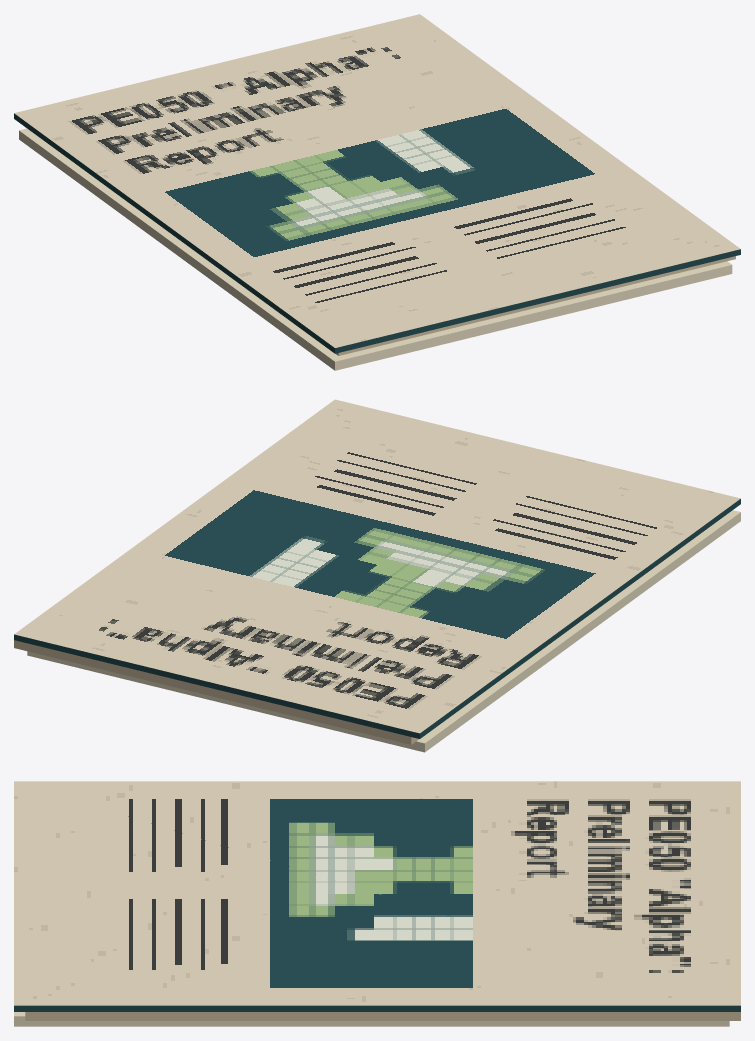
Rendered from recipe_alpha.glb.
3 views of the same model, one above another, from view 1: azimuth 30°, elevation 25°; view 2: azimuth 150°, elevation 25°; view 3: azimuth 270°, elevation 25° (orthographic). The views are drawn at different scales.
Visible parts, largest first — view 1: block_report cover, block_offset bottom sheets, block_middle sheets; view 2: block_report cover, block_offset bottom sheets, block_middle sheets; view 3: block_report cover, block_middle sheets, block_offset bottom sheets.
Boxes of the visible parts, x1,y1,x2,y2 form: block_report cover: (14,14,740,353); block_offset bottom sheets: (19,128,732,370); block_middle sheets: (336,256,735,355); block_report cover: (14,399,740,738); block_offset bottom sheets: (27,510,740,752); block_middle sheets: (14,640,418,744); block_report cover: (14,781,740,1011); block_middle sheets: (25,1012,740,1020); block_offset bottom sheets: (14,1012,729,1026).
Bounding box in the file's own units: 0.1898 × 0.0101 × 0.26.
1 material, 1 textured.
